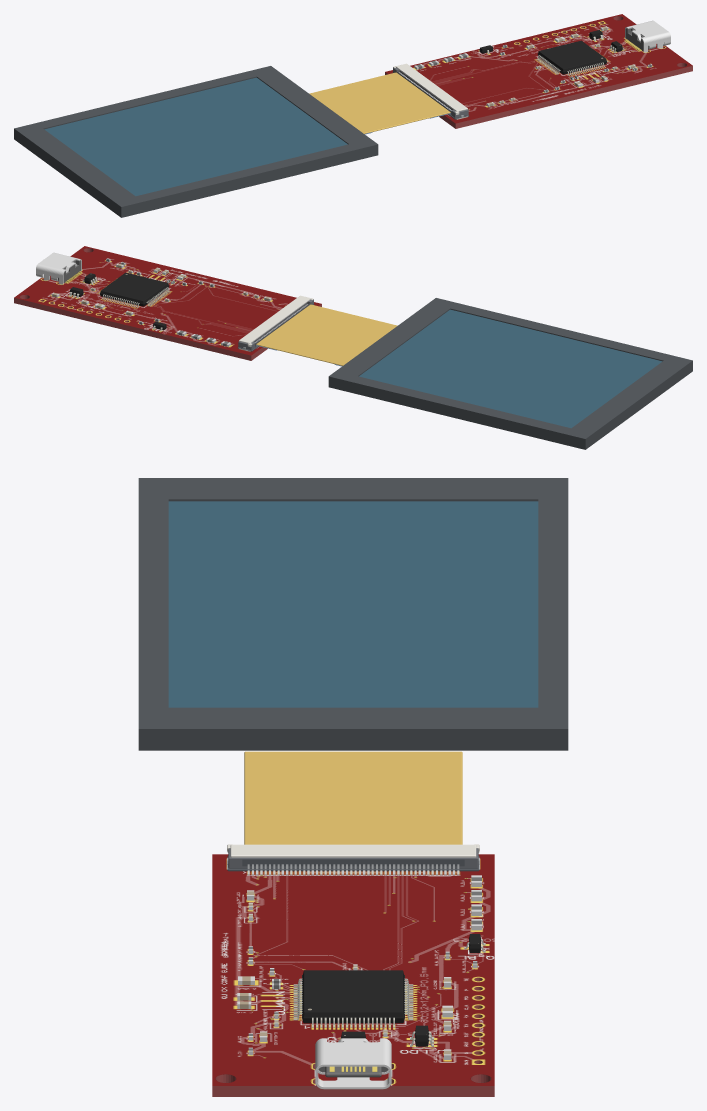
3 views of the same model, one above another, from view 1: azimuth 30°, elevation 25°; view 2: azimuth 150°, elevation 25°; view 3: azimuth 270°, elevation 25° (orthographic). The views are drawn at different scales.
Visible parts, largest first — view 1: J_DISPLAY, Box0, U_MAIN, J_USB; view 2: J_DISPLAY, Box0, U_MAIN, J_USB; view 3: J_DISPLAY, Box0, U_MAIN, J_USB.
Part boxes in pixels (x1=…): J_DISPLAY: x1=14, y1=63, x2=468, y2=217; Box0: x1=385, y1=14, x2=692, y2=128; U_MAIN: x1=536, y1=40, x2=608, y2=75; J_USB: x1=625, y1=20, x2=670, y2=52; J_DISPLAY: x1=238, y1=295, x2=692, y2=449; Box0: x1=14, y1=246, x2=321, y2=360; U_MAIN: x1=98, y1=272, x2=170, y2=307; J_USB: x1=36, y1=252, x2=81, y2=284; J_DISPLAY: x1=138, y1=478, x2=568, y2=875; Box0: x1=212, y1=854, x2=494, y2=1096; U_MAIN: x1=293, y1=970, x2=413, y2=1027; J_USB: x1=315, y1=1038, x2=391, y2=1089.
Size of the model in its own units: 160 by 5.53 by 50.2.
Materials: 25 (2 with a texture image).
